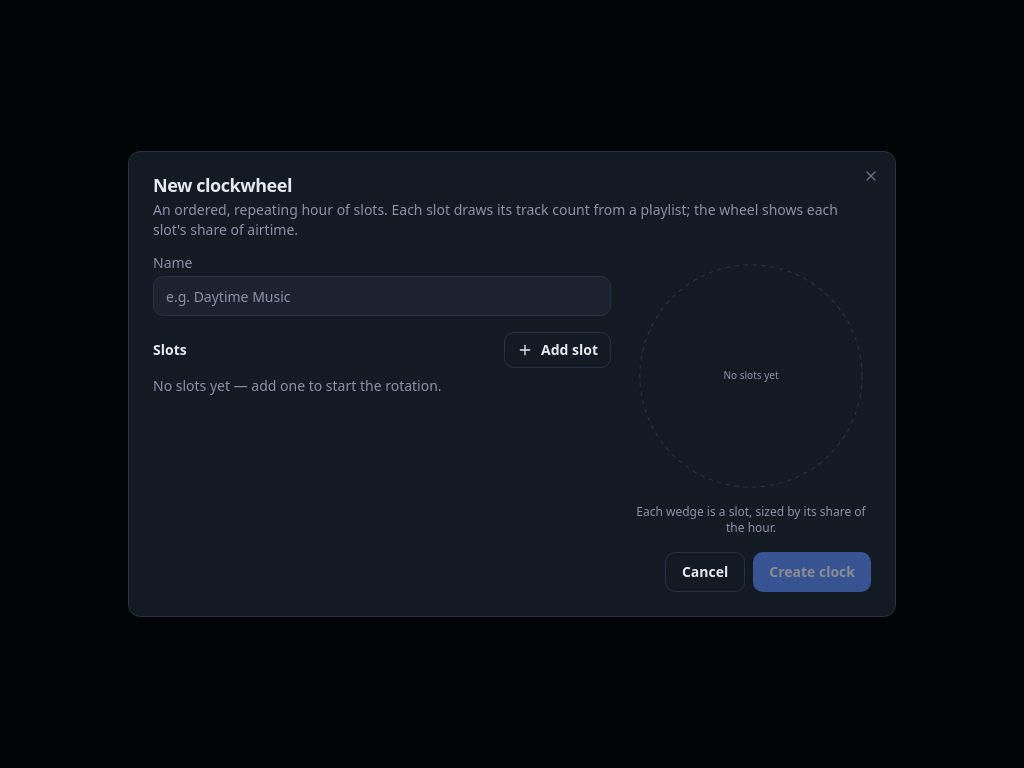
ClockwheelEditor (new) › blocks saving until the clock has a name and at least one slot
The width and height of the screenshot is (1024, 768).
Expected: the button "Create clock" is disabled, [753,552,871,592]
Type "Empty" into the field labelled "Name".
click(382, 296); type("Empty")  # box [153,276,611,316]
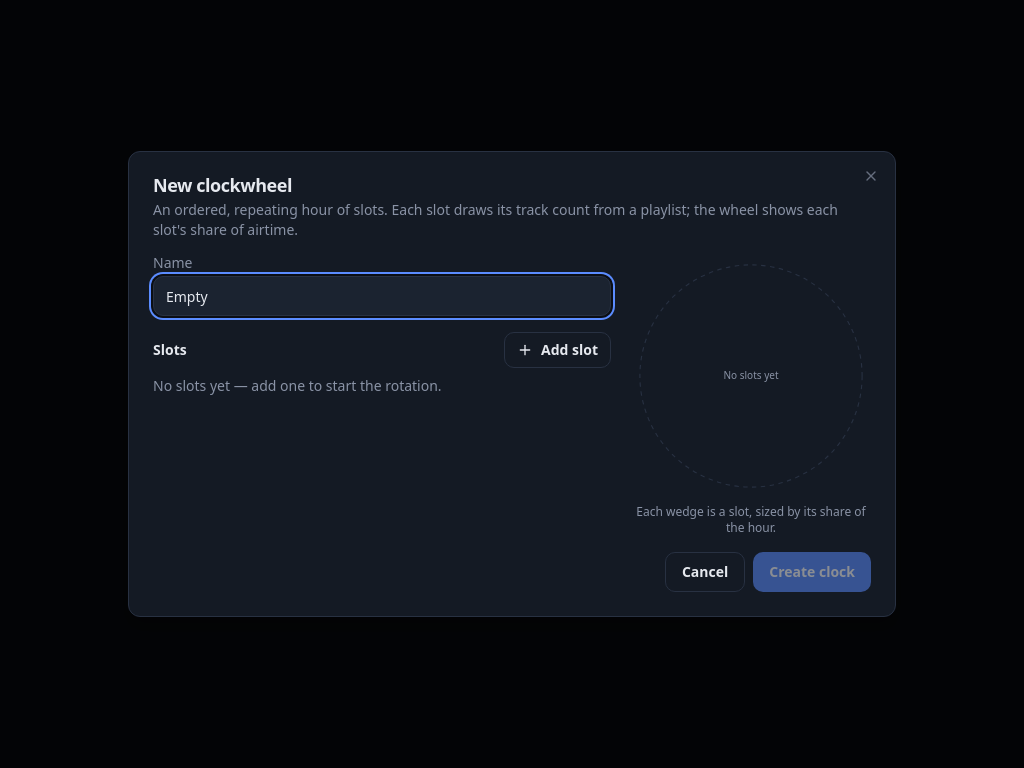
Expected: the button "Create clock" is disabled, [753,552,871,592]
Click the button "Add slot".
click(558, 350)  # box [504,332,611,368]
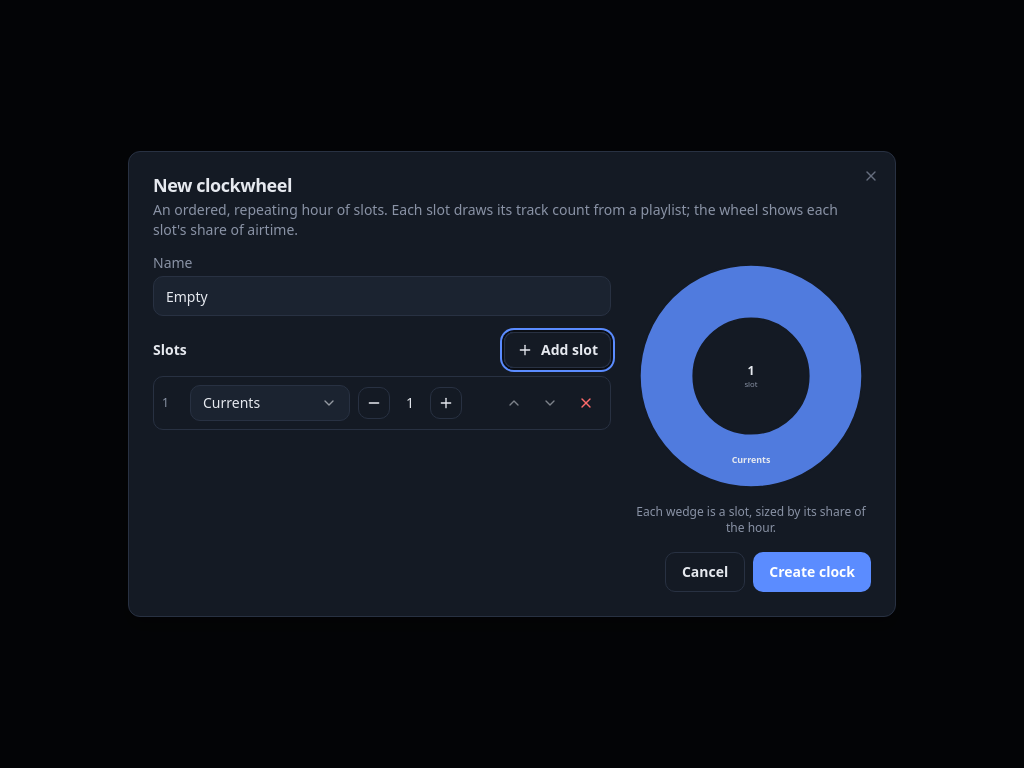
Now the button "Create clock" is enabled, box [753,552,871,592]
